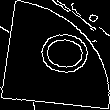O_W: (23, 29, 87, 81)
